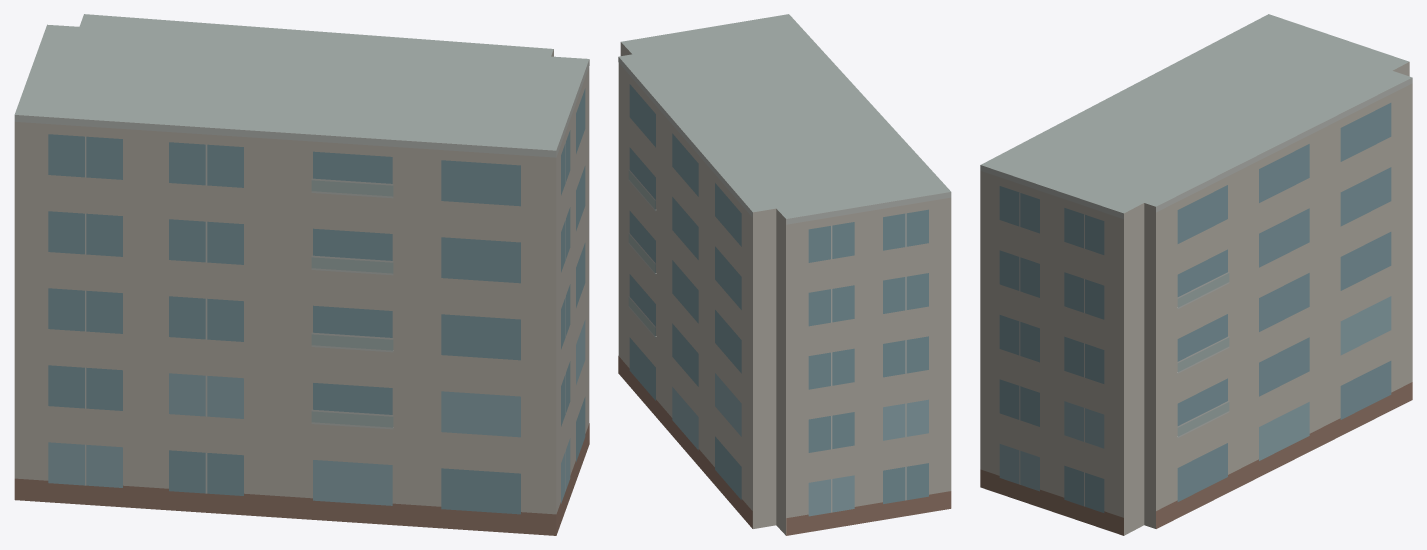
The model's file is survey-upis-32781809.glb.
The picture shows the model from 3 angles, left to right: view 1: azimuth 30°, elevation 25°; view 2: azimuth 150°, elevation 25°; view 3: azimuth 270°, elevation 25°; orthographic projection. The views are drawn at different scales.
Visible parts, largest first — view 1: survey-upis-32781809.tmp; view 2: survey-upis-32781809.tmp; view 3: survey-upis-32781809.tmp.
Boxes of the visible parts, x1,y1,x2,y2 form: survey-upis-32781809.tmp: [14, 14, 589, 535]; survey-upis-32781809.tmp: [618, 14, 951, 535]; survey-upis-32781809.tmp: [980, 14, 1412, 535].
Bounding box in the file's own units: 18.06 × 13.6 × 16.53.
